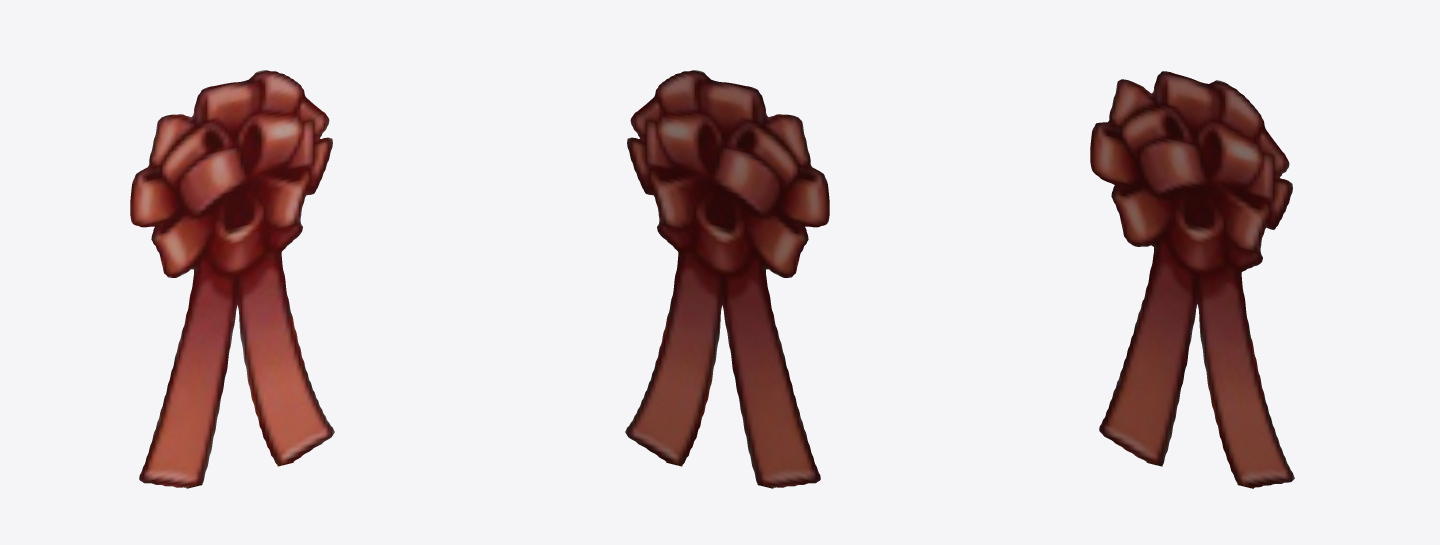
Rendered from bow.glb.
3 views of the same model, side by side, from view 1: azimuth 30°, elevation 25°; view 2: azimuth 150°, elevation 25°; view 3: azimuth 330°, elevation 25° (orthographic).
Parts seen in each view (by area): view 1: partyDecoration_Bow__billboard; view 2: partyDecoration_Bow__billboard; view 3: partyDecoration_Bow__billboard.
Part boxes in pixels (x1,y1,x2,y2): partyDecoration_Bow__billboard: (130, 70, 334, 488); partyDecoration_Bow__billboard: (625, 70, 829, 488); partyDecoration_Bow__billboard: (1090, 71, 1294, 488).
Size of the model in its own units: 7.12 by 6.12 by 0.
1 material, 1 textured.
